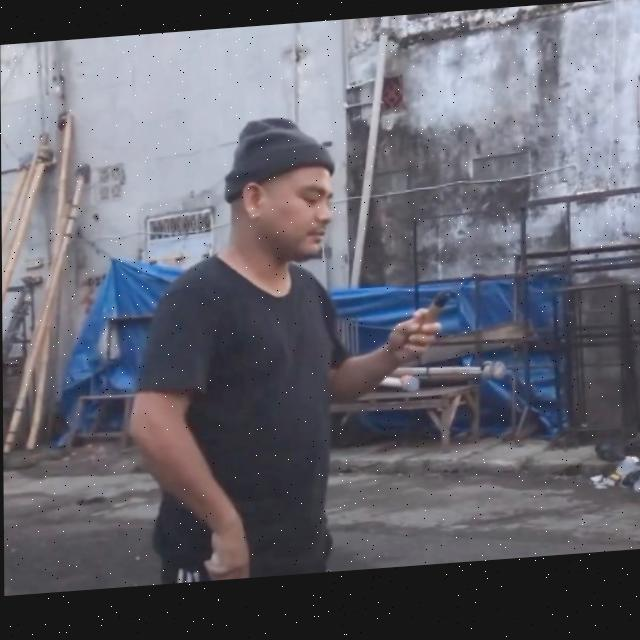vape: (424, 296, 450, 329)
